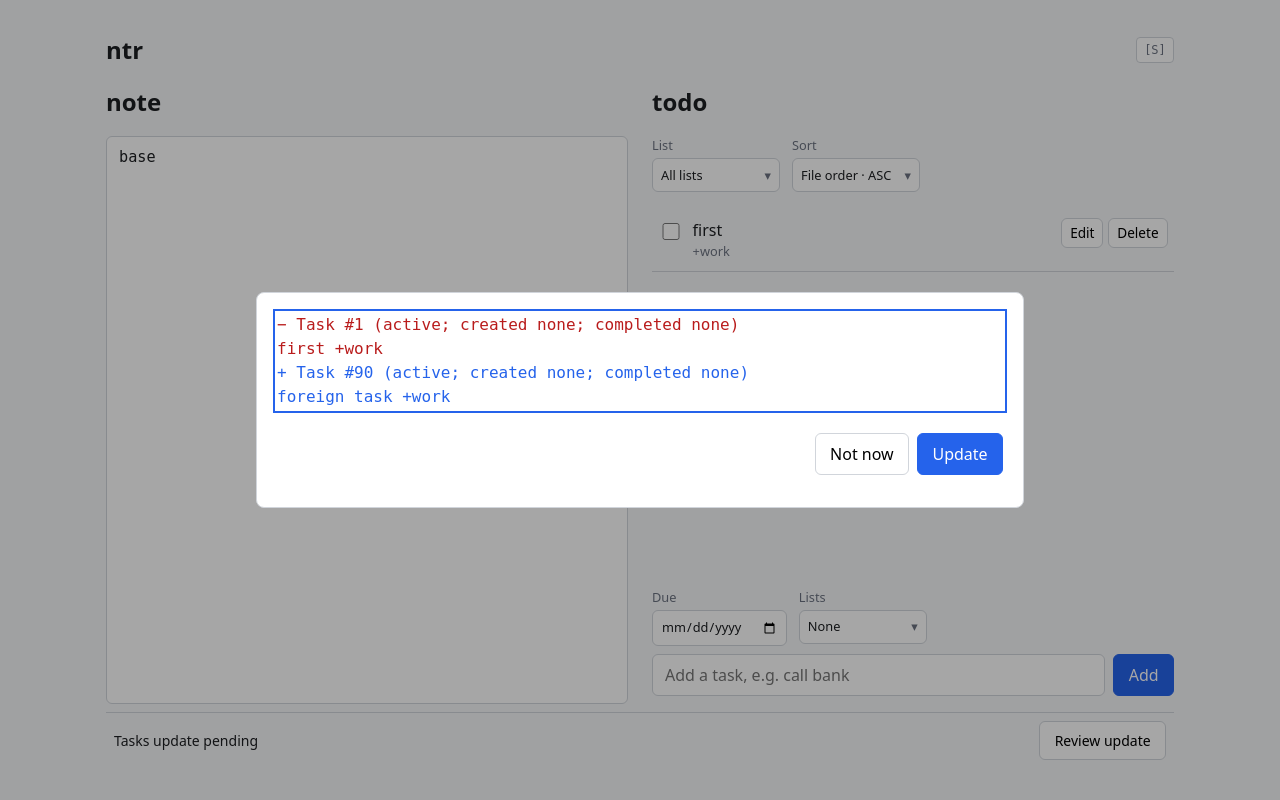
Test case: approval across real panes › does not import declined tasks through list filtering or an own add response
This screenshot has width=1280, height=800.
Click the button "Not now" at (862, 454), box [815,433,909,475]
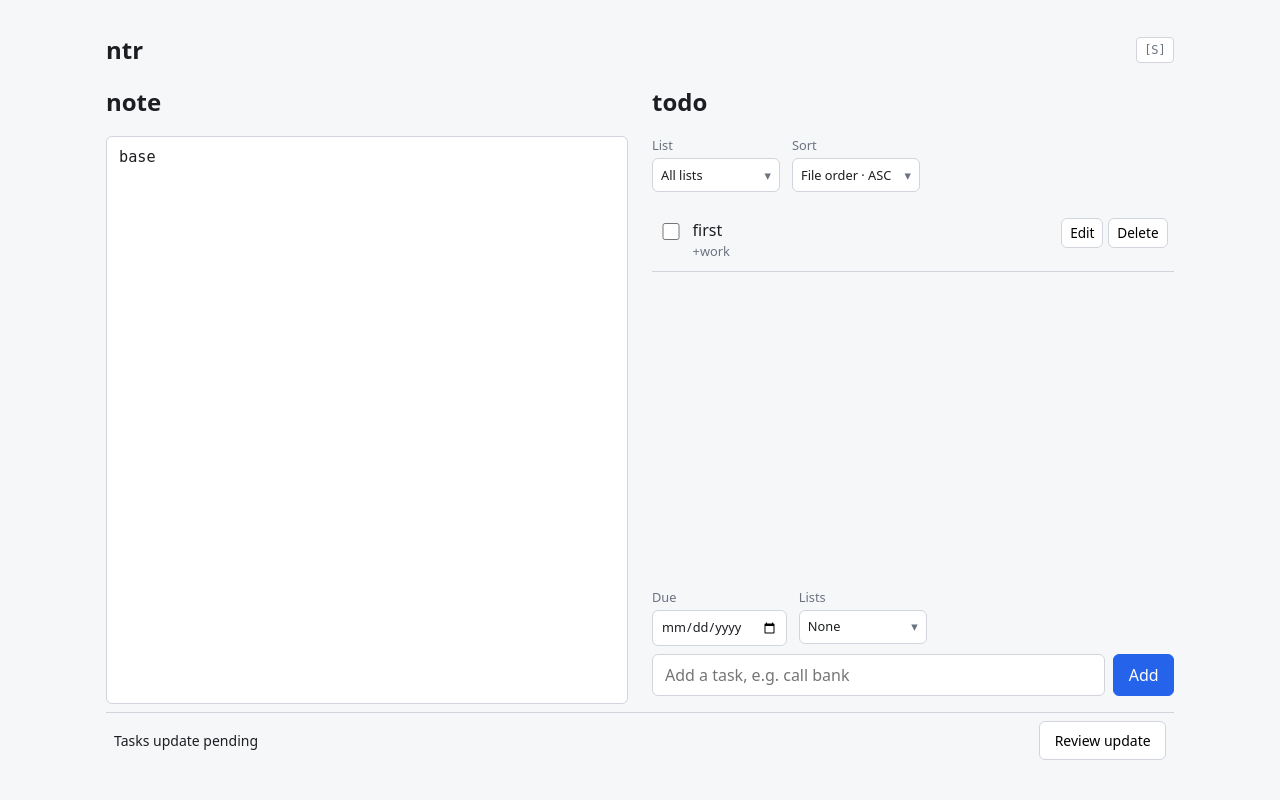
Click the button with aria-label "List filter" at (716, 175), box [652,158,780,192]
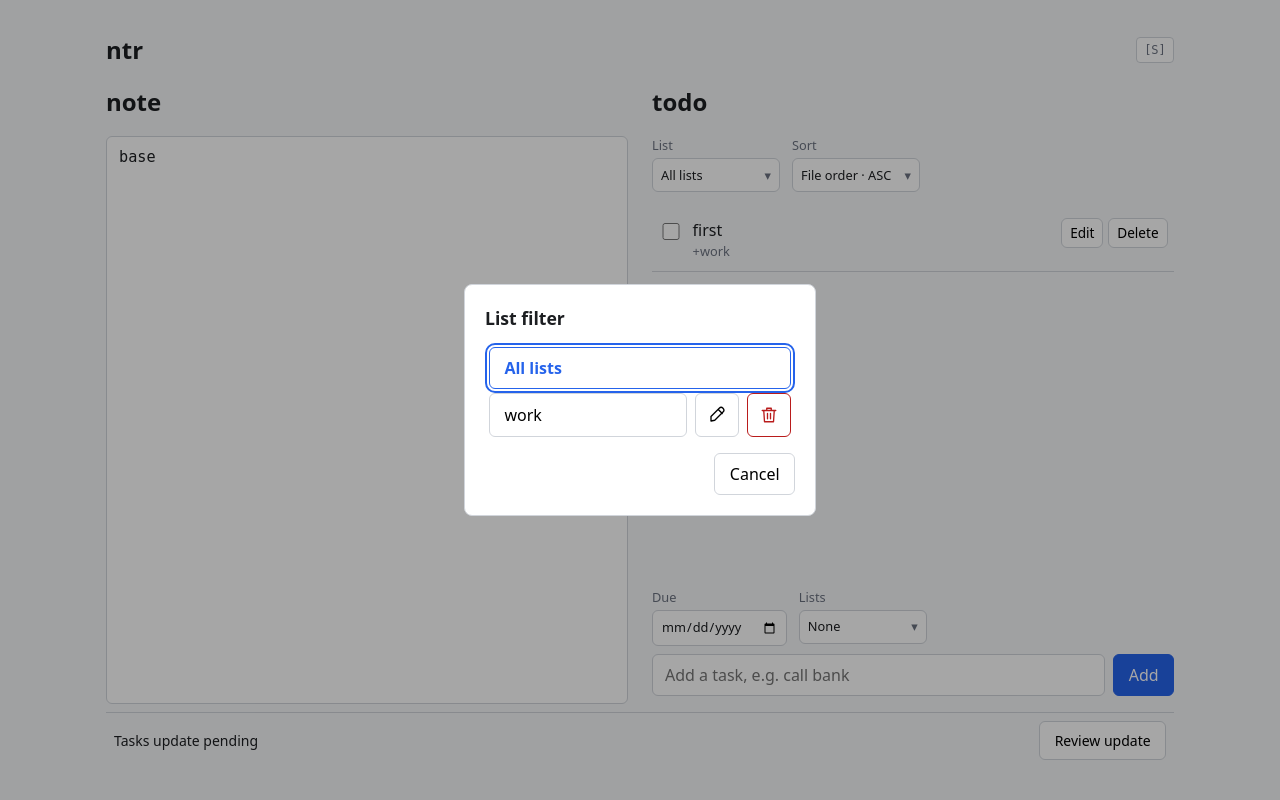
Click the button "work" at (588, 415), box [489,393,687,437]
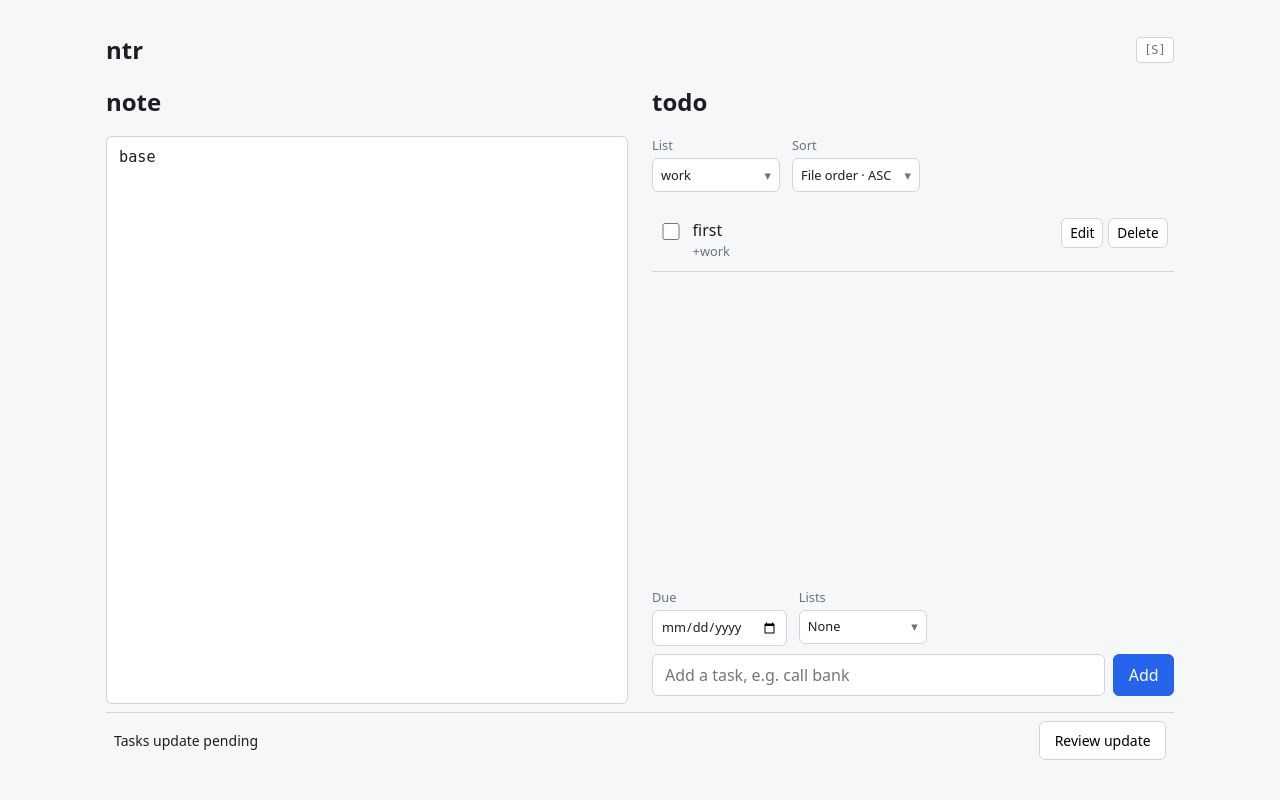
expect the list with id "tasks" shows "first": met, box [693,219,722,241]
expect the element with id "tasks" does not show "foreign": met
Type "own new +work" into the field named "New task" at (879, 675), box [652,654,1105,696]
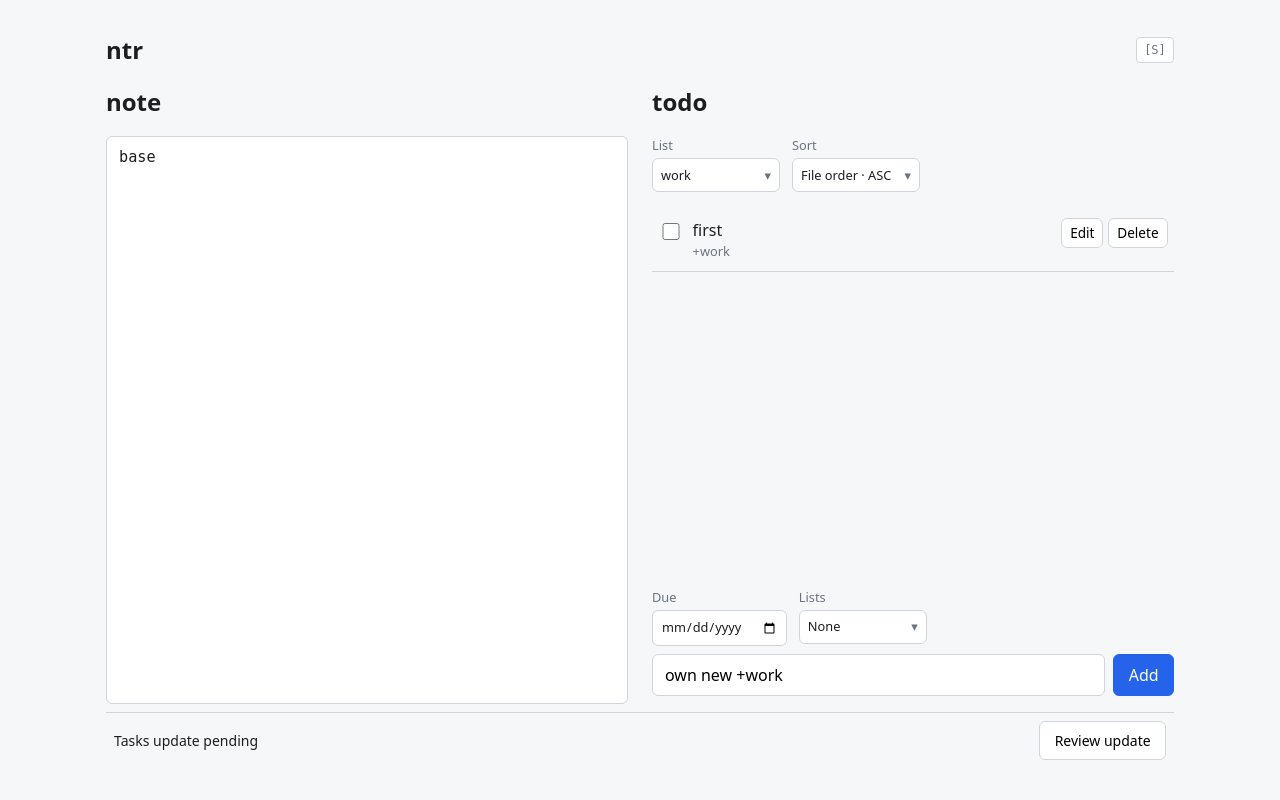
Submit the form with id "add-form", box [652,588,1174,696]
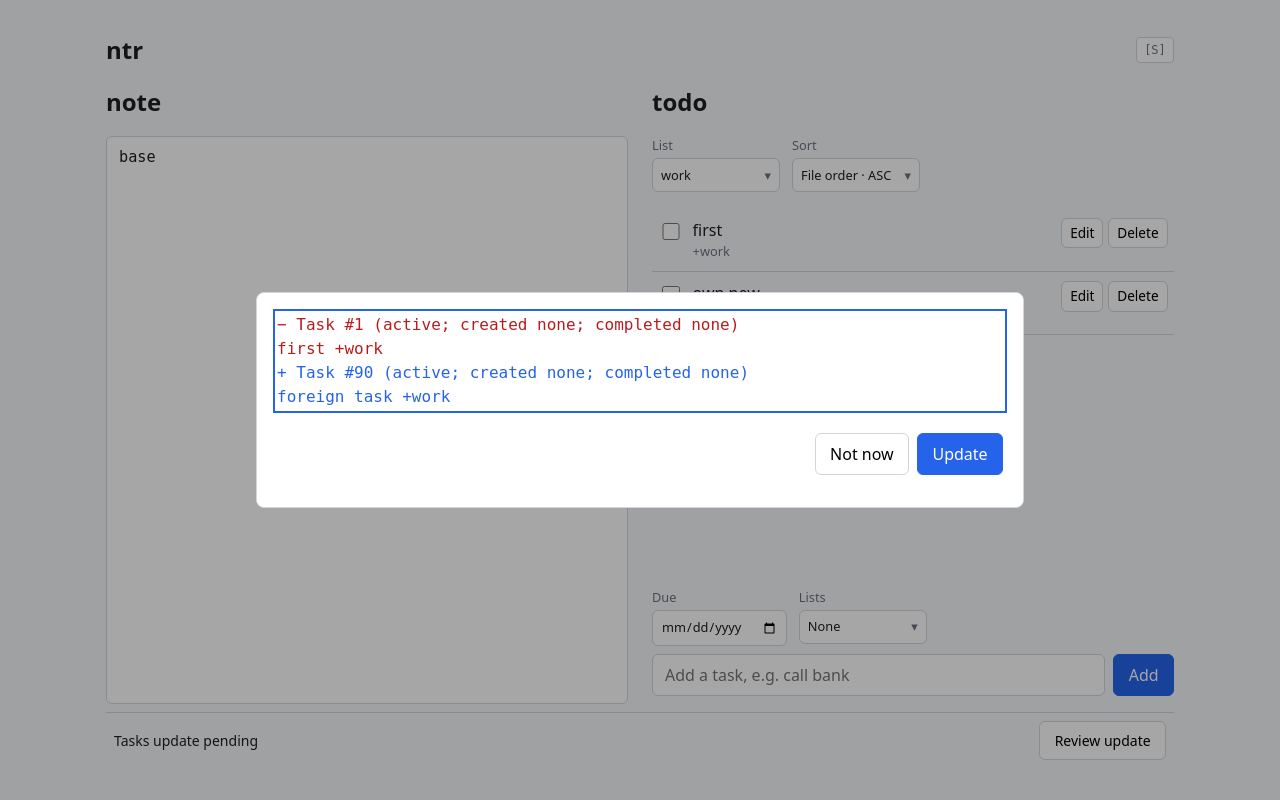
expect the list with id "tasks" shows "first": met, box [693,219,722,241]
expect the list with id "tasks" shows "own new": met, box [693,282,760,304]
